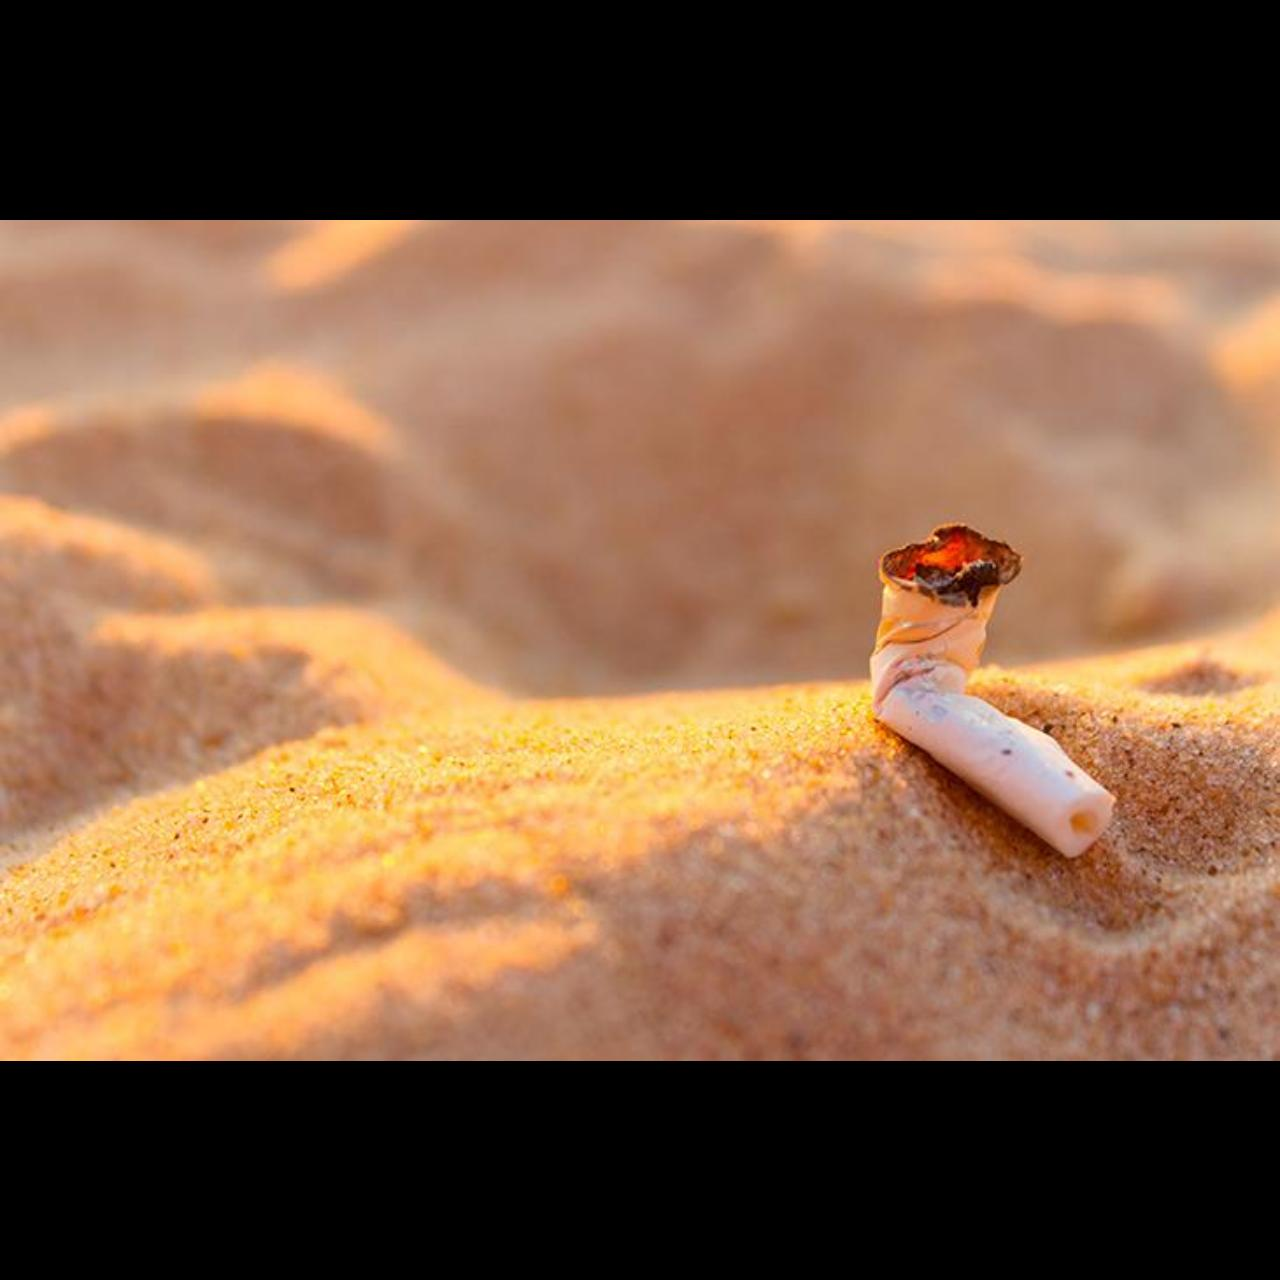cigarettes_butts: (871, 522, 1115, 859)
